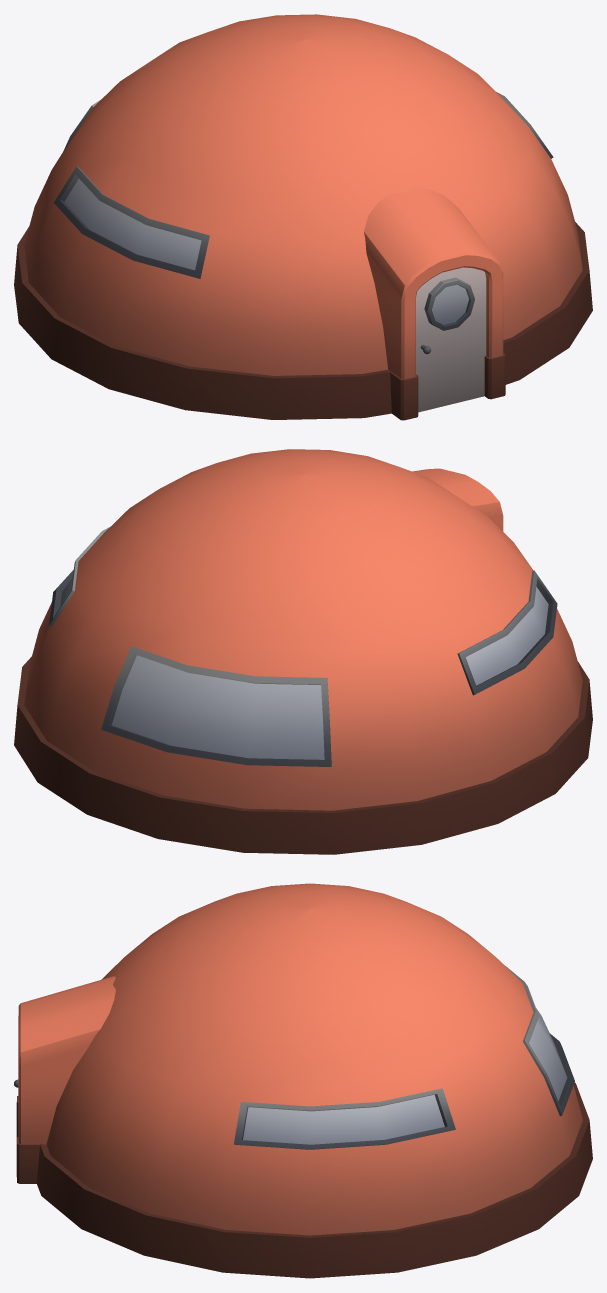
The model's file is SM_House_03.fbx.
The picture shows the model from 3 angles, top to bottom: view 1: azimuth 30°, elevation 25°; view 2: azimuth 150°, elevation 25°; view 3: azimuth 270°, elevation 25°; orthographic projection. The views are drawn at different scales.
Parts seen in each view (by area): view 1: House_03; view 2: House_03; view 3: House_03.
Part boxes in pixels (left/top/right/bottom): House_03: left=14, top=14, right=592, bottom=420; House_03: left=14, top=449, right=592, bottom=854; House_03: left=14, top=883, right=592, bottom=1278.
Size of the model in its own units: 606 by 296 by 620.
